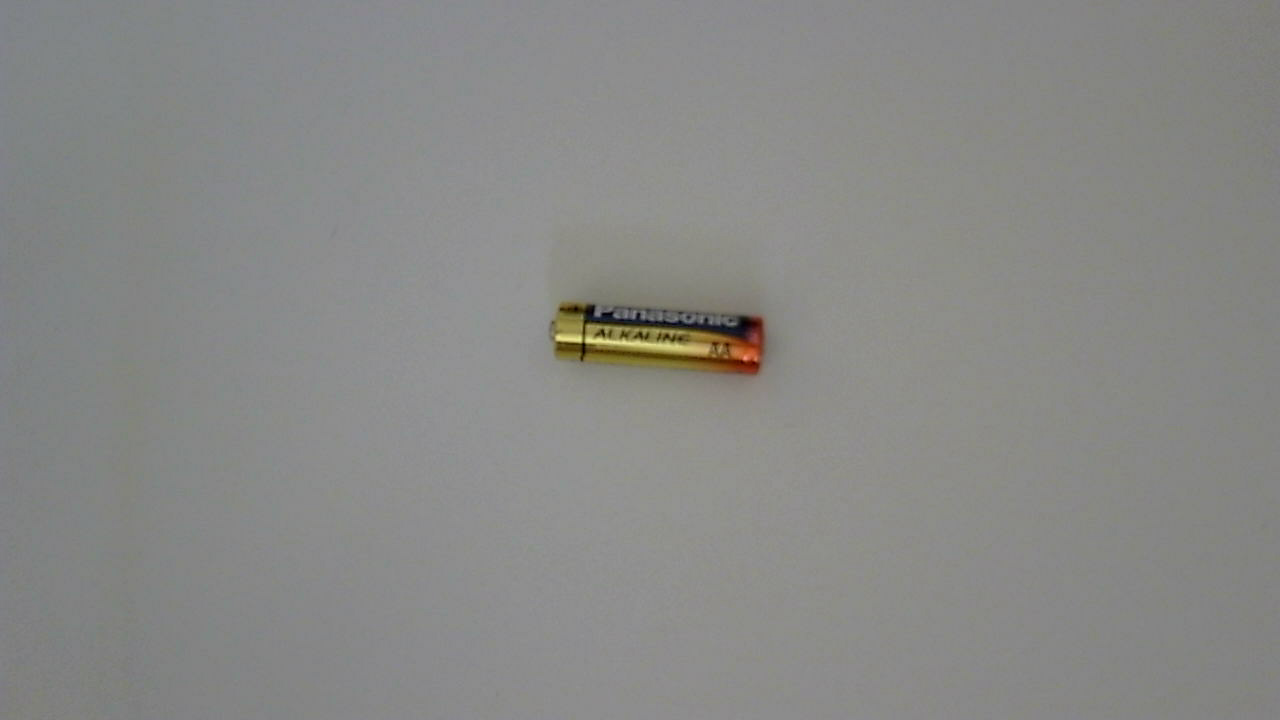Battery: (547, 301, 773, 386)
